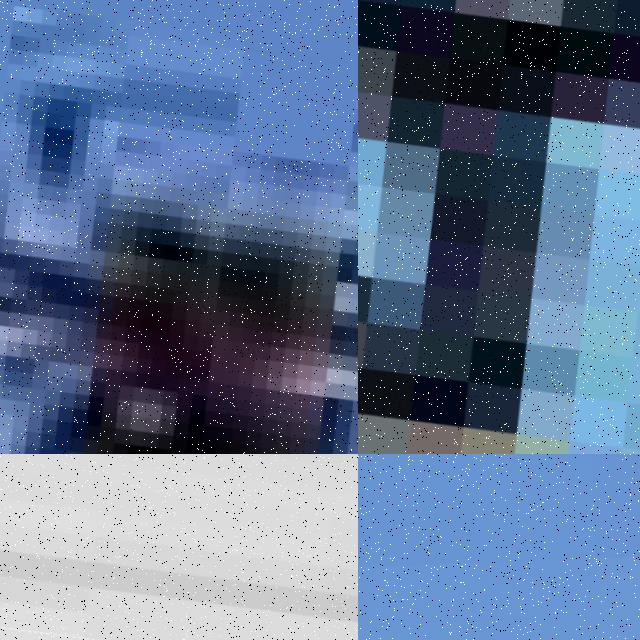0: (0, 0, 358, 454)
drone: (358, 0, 640, 454), (0, 454, 358, 640)
